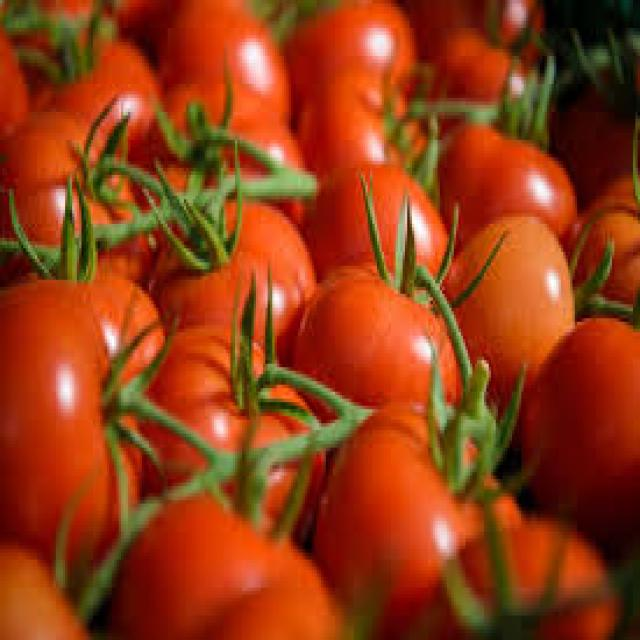biodegradable: (0, 0, 638, 637), (0, 172, 163, 588), (128, 269, 326, 553), (289, 168, 503, 430), (307, 388, 517, 623), (112, 479, 379, 637), (440, 207, 633, 410), (510, 301, 638, 574), (128, 49, 305, 241), (433, 46, 577, 256), (412, 511, 631, 637), (0, 104, 151, 276), (144, 186, 314, 333), (104, 0, 288, 129), (14, 7, 161, 150), (0, 486, 116, 636), (549, 14, 638, 199), (424, 0, 545, 133), (293, 74, 426, 179), (275, 0, 417, 98), (205, 570, 389, 637), (563, 179, 638, 326), (0, 0, 30, 129)
